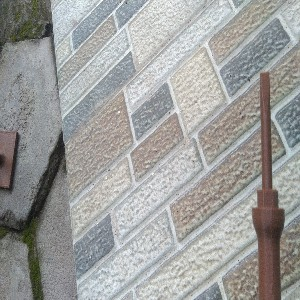obeng: (252, 71, 286, 300)
